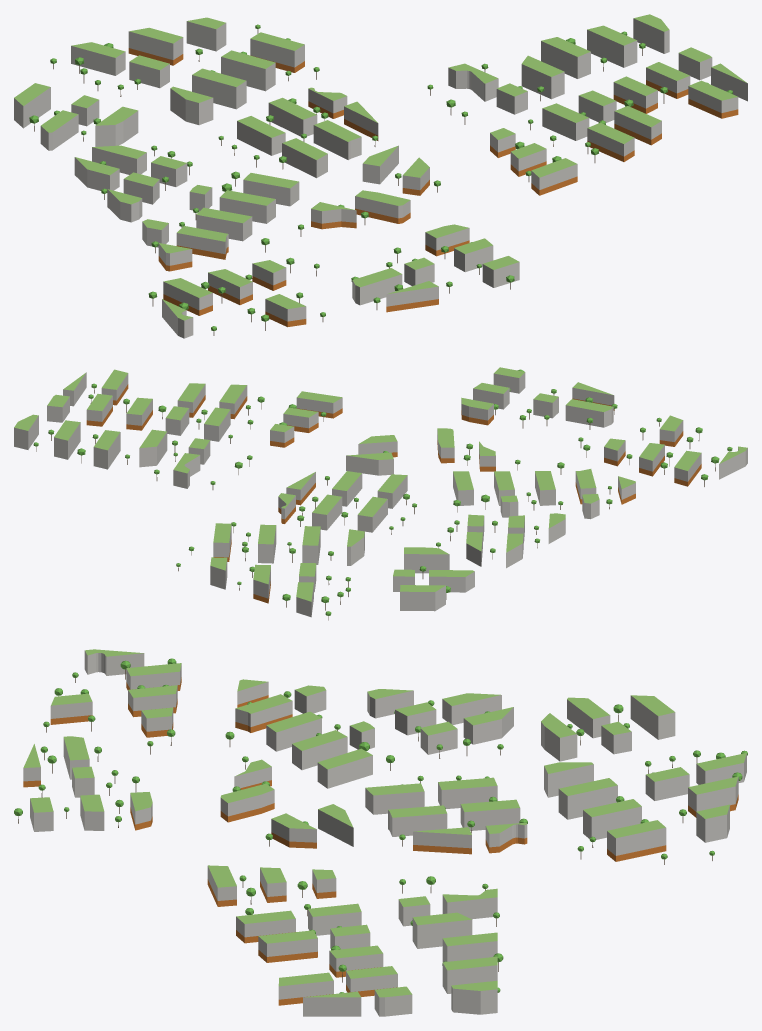
3 views of the same model, one above another, from view 1: azimuth 30°, elevation 25°; view 2: azimuth 150°, elevation 25°; view 3: azimuth 270°, elevation 25° (orthographic). The views are drawn at different scales.
Visible parts, largest first — view 1: V2_P3_wohnen, V2_P2_wohnen, V2_P1_wohnen, V2_P3_dach, V2_P4_wohnen, V2_P2_dach, V2_P1_dach, V2_P4_dach, V2_P3_eg, V2_P4_eg, V2_P2_baeume, V2_P3_baeume (+2 smaller); view 2: V2_P3_wohnen, V2_P2_wohnen, V2_P3_dach, V2_P1_wohnen, V2_P4_wohnen, V2_P2_dach, V2_P1_dach, V2_P4_dach, V2_P3_eg, V2_P2_baeume, V2_P3_baeume, V2_P4_baeume (+2 smaller); view 3: V2_P3_wohnen, V2_P2_wohnen, V2_P1_wohnen, V2_P3_dach, V2_P2_dach, V2_P4_wohnen, V2_P1_dach, V2_P4_dach, V2_P3_eg, V2_P4_baeume, V2_P3_baeume, V2_P4_eg (+3 smaller).
Part boxes in pixels (bbox=[...]): V2_P3_wohnen: bbox=[142, 53, 747, 265]; V2_P2_wohnen: bbox=[74, 18, 669, 222]; V2_P1_wohnen: bbox=[14, 21, 304, 150]; V2_P3_dach: bbox=[142, 47, 746, 253]; V2_P4_wohnen: bbox=[162, 228, 519, 338]; V2_P2_dach: bbox=[75, 14, 669, 204]; V2_P1_dach: bbox=[14, 17, 304, 132]; V2_P4_dach: bbox=[162, 224, 519, 320]; V2_P3_eg: bbox=[158, 80, 738, 271]; V2_P4_eg: bbox=[163, 240, 469, 327]; V2_P2_baeume: bbox=[99, 31, 645, 199]; V2_P3_baeume: bbox=[151, 82, 732, 253]; V2_P3_wohnen: bbox=[47, 372, 635, 519]; V2_P2_wohnen: bbox=[14, 415, 565, 568]; V2_P3_dach: bbox=[47, 369, 635, 503]; V2_P1_wohnen: bbox=[210, 525, 474, 617]; V2_P4_wohnen: bbox=[461, 372, 747, 481]; V2_P2_dach: bbox=[14, 414, 565, 552]; V2_P1_dach: bbox=[210, 523, 474, 601]; V2_P4_dach: bbox=[461, 367, 747, 470]; V2_P3_eg: bbox=[86, 384, 635, 504]; V2_P2_baeume: bbox=[33, 429, 539, 559]; V2_P3_baeume: bbox=[88, 383, 612, 512]; V2_P4_baeume: bbox=[494, 369, 732, 486]; V2_P3_wohnen: bbox=[207, 682, 412, 1016]; V2_P2_wohnen: bbox=[365, 690, 527, 1014]; V2_P1_wohnen: bbox=[541, 695, 746, 855]; V2_P3_dach: bbox=[208, 679, 412, 997]; V2_P2_dach: bbox=[365, 689, 526, 990]; V2_P4_wohnen: bbox=[23, 650, 181, 831]; V2_P1_dach: bbox=[541, 695, 746, 837]; V2_P4_dach: bbox=[23, 649, 181, 812]; V2_P3_eg: bbox=[207, 695, 396, 1005]; V2_P4_baeume: bbox=[14, 658, 176, 827]; V2_P3_baeume: bbox=[225, 691, 394, 993]; V2_P4_eg: bbox=[23, 677, 181, 830].
Bounding box in the file's own units: 522 × 16.6 × 465.
